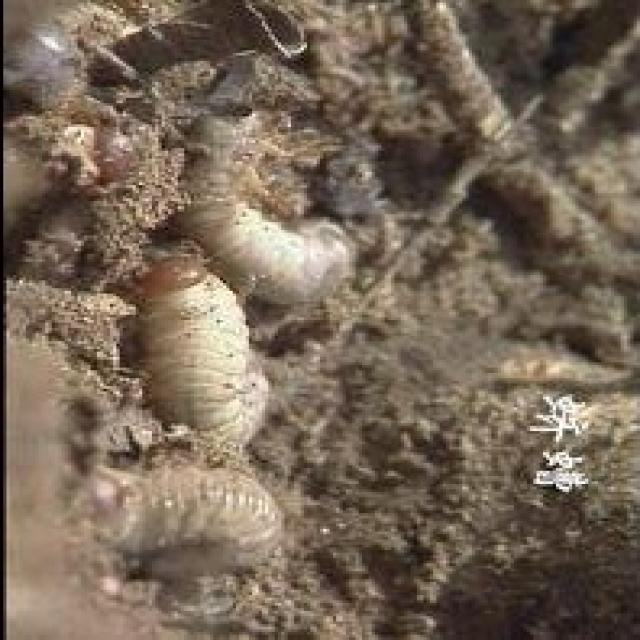grub: (85, 464, 298, 591), (189, 144, 357, 297), (153, 244, 269, 451)
